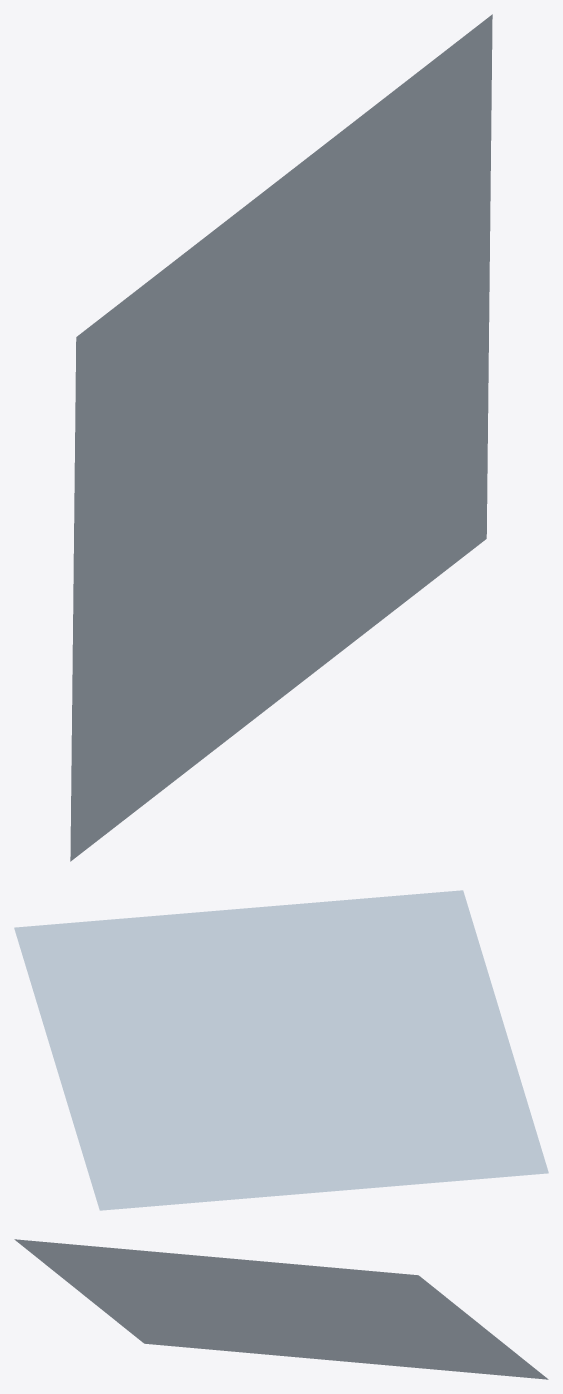
Rendered from trapeziotrapezoidal-interosseous-ligament-l.glb.
The picture shows the model from 3 angles, top to bottom: view 1: azimuth 30°, elevation 25°; view 2: azimuth 150°, elevation 25°; view 3: azimuth 270°, elevation 25°; orthographic projection. The views are drawn at different scales.
Visible parts, largest first — view 1: Trapeziotrapezoidal interosseous ligament.l; view 2: Trapeziotrapezoidal interosseous ligament.l; view 3: Trapeziotrapezoidal interosseous ligament.l.
Part boxes in pixels (<box>): Trapeziotrapezoidal interosseous ligament.l: <box>70,14,492,861</box>; Trapeziotrapezoidal interosseous ligament.l: <box>14,890,548,1210</box>; Trapeziotrapezoidal interosseous ligament.l: <box>14,1239,548,1379</box>.
Size of the model in its own units: 0.00282 by 0.00185 by 0.00375.
